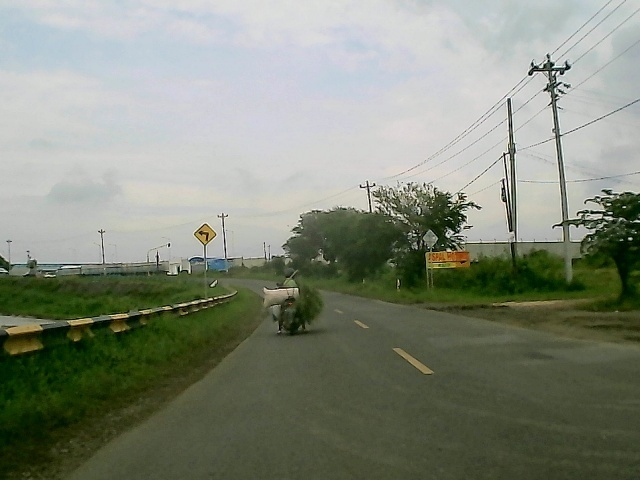Tikungan tajam ke kiri: (194, 221, 216, 246)
